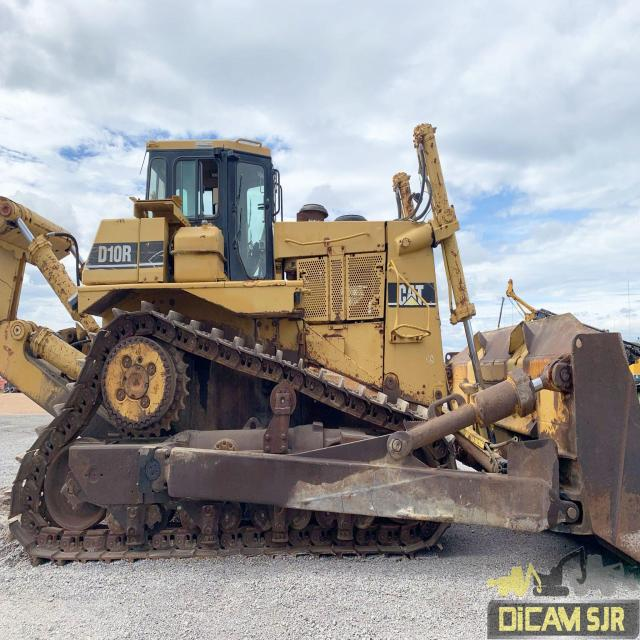Bulldozer: (0, 113, 640, 595)
